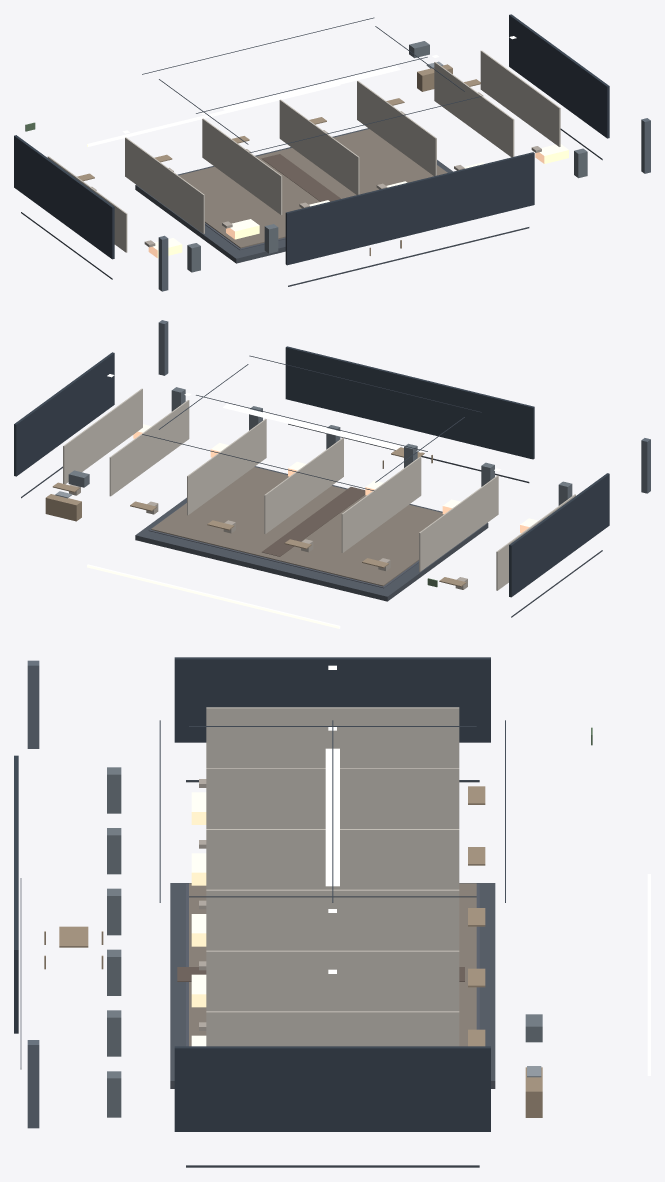
File: floor-shelter.glb
The picture shows the model from 3 angles, top to bottom: view 1: azimuth 30°, elevation 25°; view 2: azimuth 150°, elevation 25°; view 3: azimuth 270°, elevation 25°; orthographic projection. The views are drawn at different scales.
Visible parts, largest first — view 1: WallBack_shelter, UnitFloor, WallL_shelter, WallR_shelter, Partition_2, PartitionEnd, Partition_3, Partition_5, Partition_1, Partition_4, Slab_shelter, Corridor (+10 smaller); view 2: WallBack_shelter, UnitFloor, WallL_shelter, WallR_shelter, Slab_shelter, Partition_2, Partition_5, Partition_1, Partition_4, Partition_3, PartitionEnd, Corridor (+7 smaller); view 3: WallR_shelter, WallL_shelter, Partition_4, Partition_3, Partition_0, Partition_2, Partition_1, Partition_5, Slab_shelter, UnitFloor, LightStrip_shelter, WallBack_shelter (+7 smaller).
Boxes of the visible parts, x1,y1,x2,y2 form: WallBack_shelter: (285,152,534,265); UnitFloor: (179,129,447,248); WallL_shelter: (14,135,114,259); WallR_shelter: (509,14,609,138); Partition_2: (202,118,282,214); PartitionEnd: (480,50,560,146); Partition_3: (279,99,359,194); Partition_5: (434,62,514,157); Partition_1: (125,137,204,233); Partition_4: (357,81,436,176); Slab_shelter: (135,128,452,263); Corridor: (261,154,340,201); WallBack_shelter: (285,346,534,459); UnitFloor: (151,467,443,586); WallL_shelter: (509,473,609,597); WallR_shelter: (14,352,114,476); Slab_shelter: (135,466,488,601); Partition_2: (341,456,421,552); Partition_5: (109,400,189,496); Partition_1: (419,475,498,571); Partition_4: (187,418,266,515); Partition_3: (264,437,343,534); PartitionEnd: (63,388,142,484); Corridor: (262,487,365,556); WallR_shelter: (174,1046,490,1131); WallL_shelter: (174,657,490,742); Partition_4: (206,950,459,1011); Partition_3: (206,889,459,950); Partition_0: (206,707,459,768); Partition_2: (206,829,459,889); Partition_1: (206,768,459,828); Partition_5: (206,1011,459,1046); Slab_shelter: (170,883,495,1088); UnitFloor: (189,883,476,1046); LightStrip_shelter: (325,748,339,886); WallBack_shelter: (14,755,18,1033).
Size of the model in its own units: 16.08 by 3.42 by 11.07.
